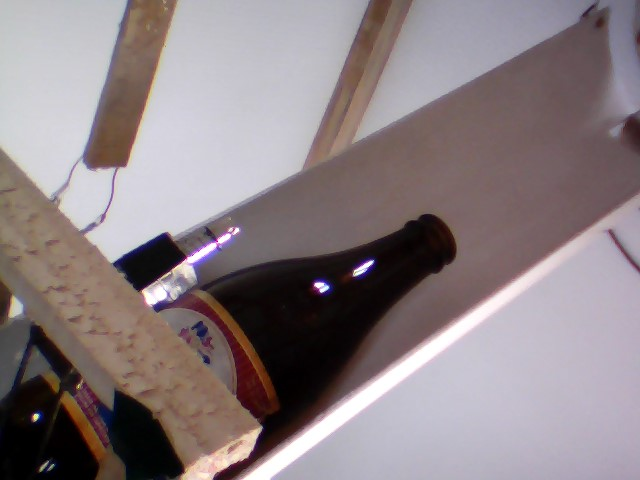vidrio: (198, 206, 470, 440)
